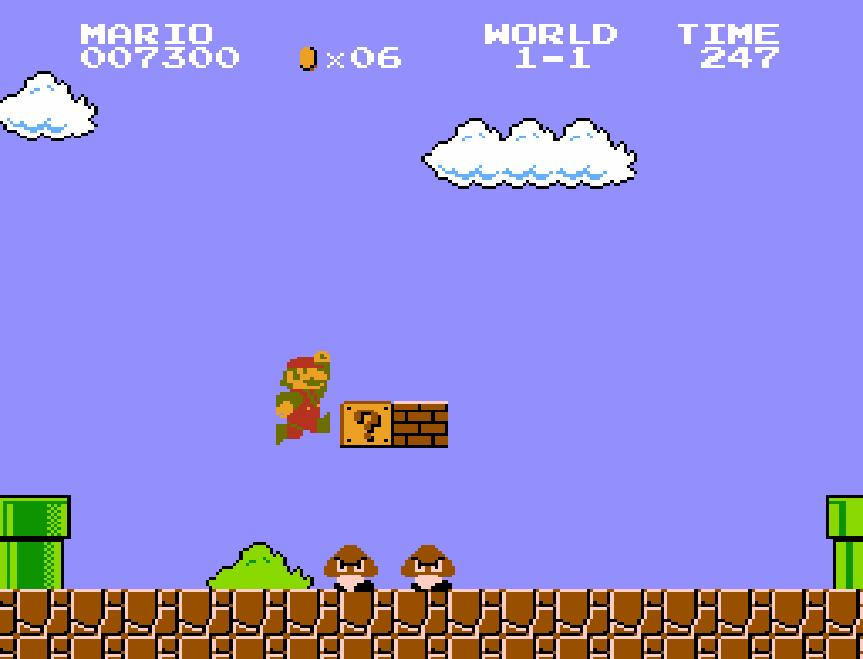big_mario: (274, 348, 332, 446)
